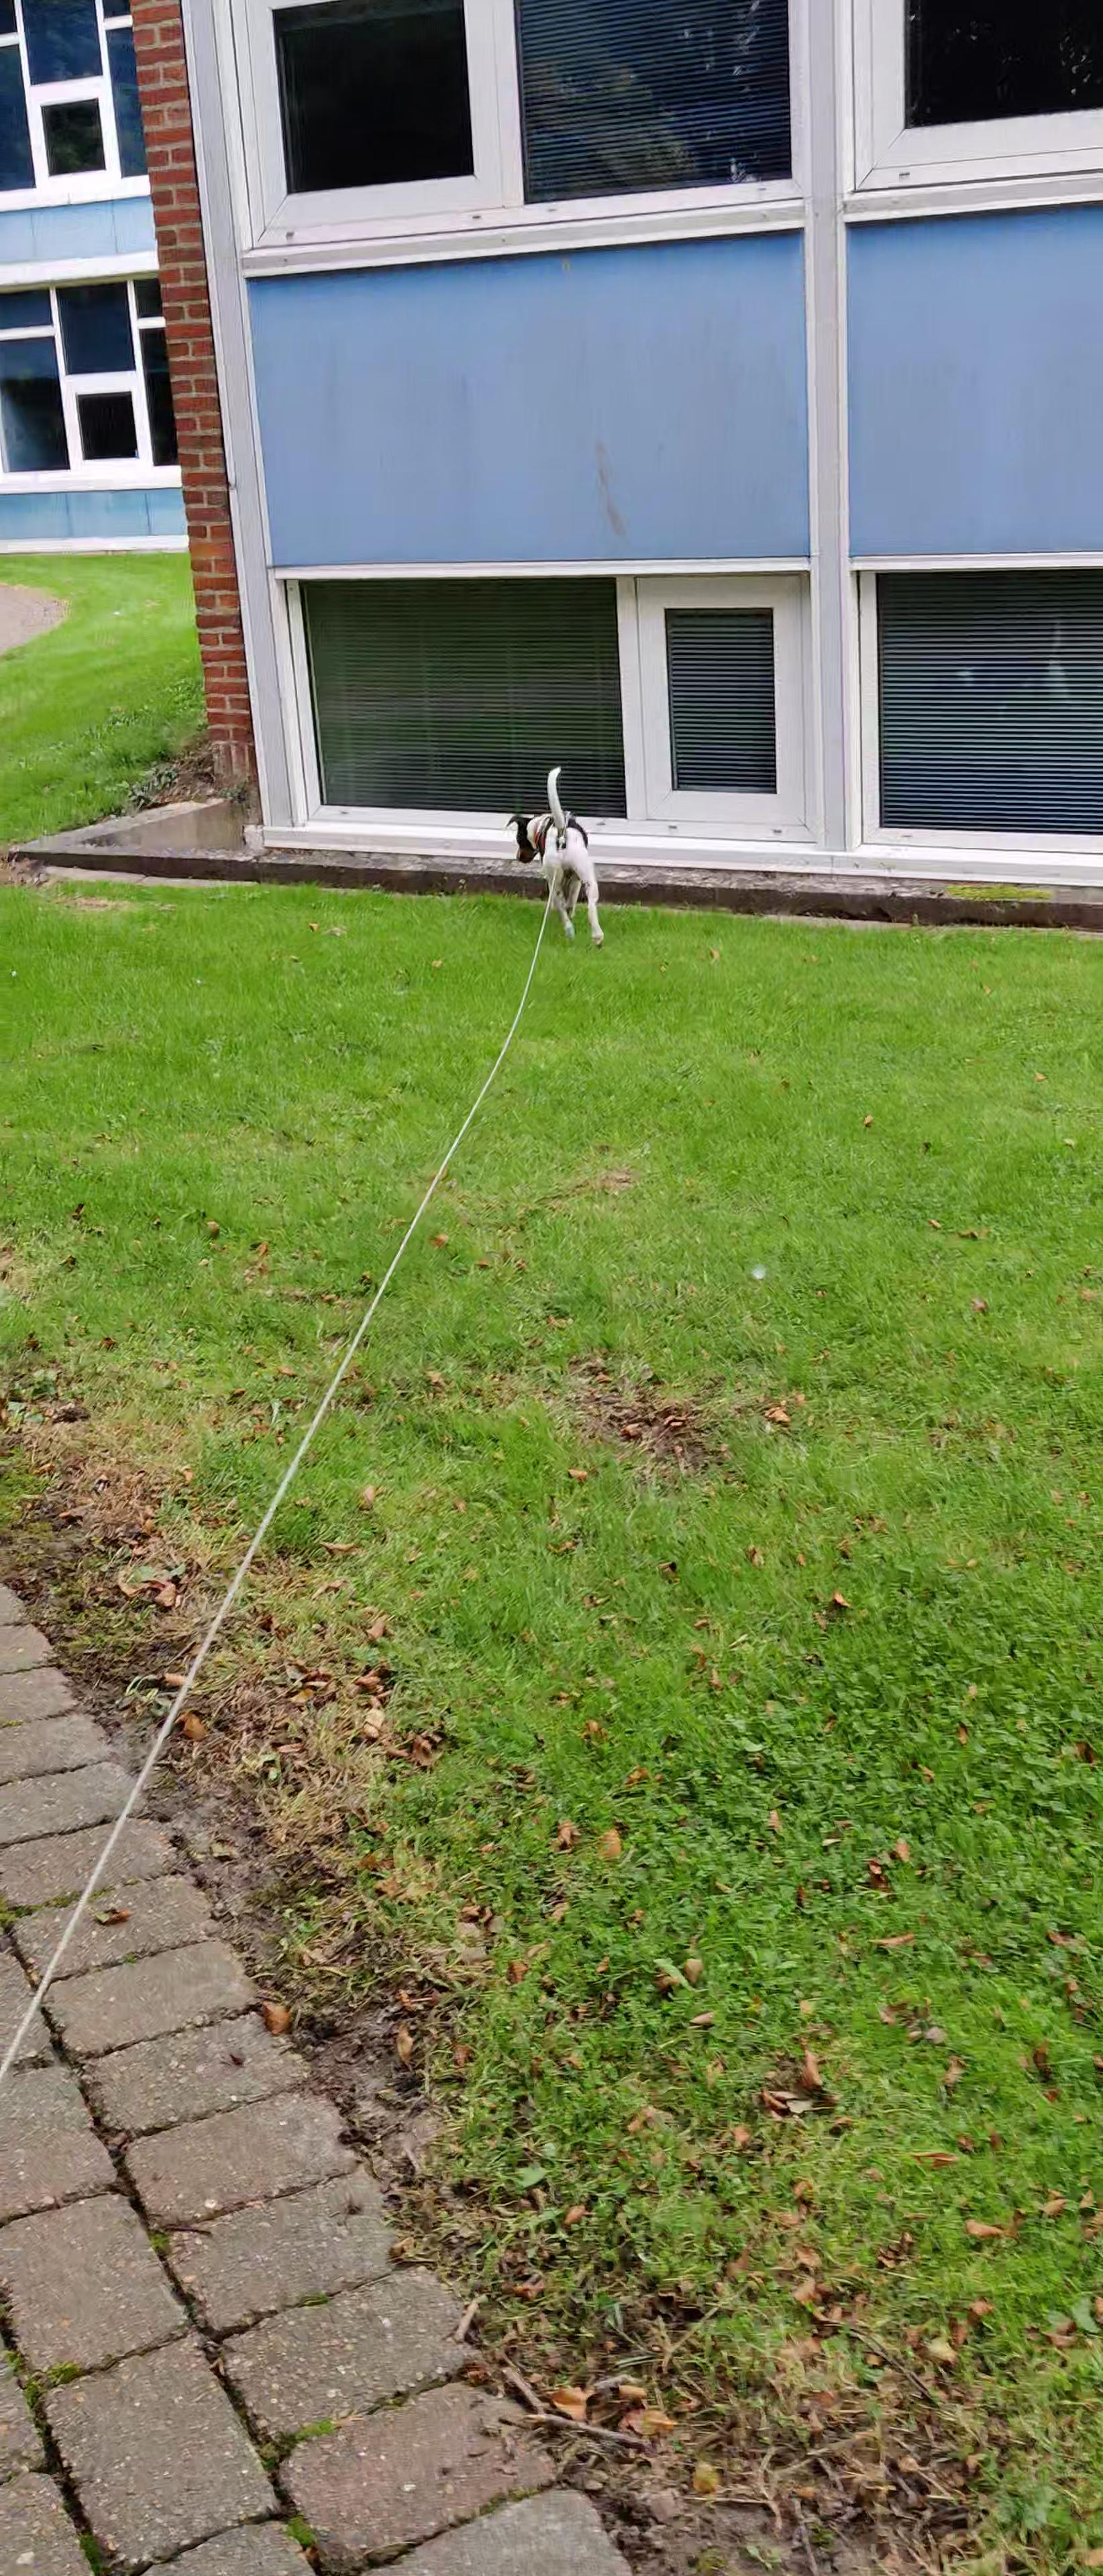Dog: (500, 762, 613, 951)
